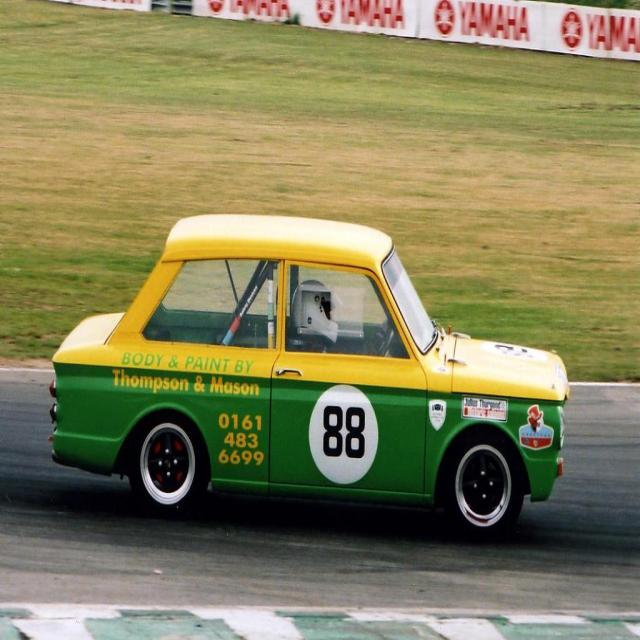car: (48, 209, 565, 532)
